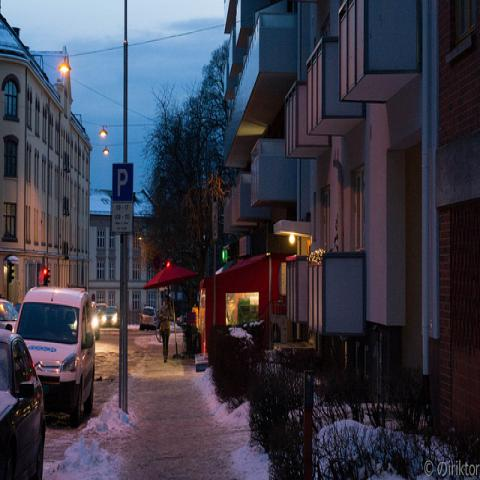car: (15, 283, 94, 428), (1, 329, 46, 473), (0, 300, 19, 334), (139, 305, 157, 331), (89, 302, 101, 339), (100, 306, 119, 327)
